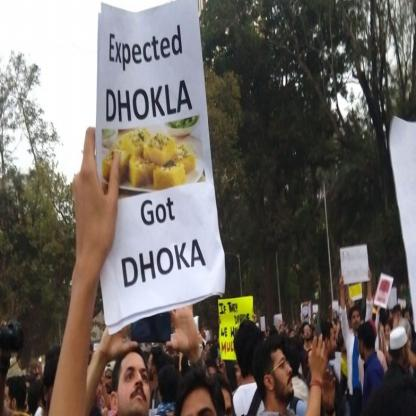BANNER: (94, 0, 226, 334)
